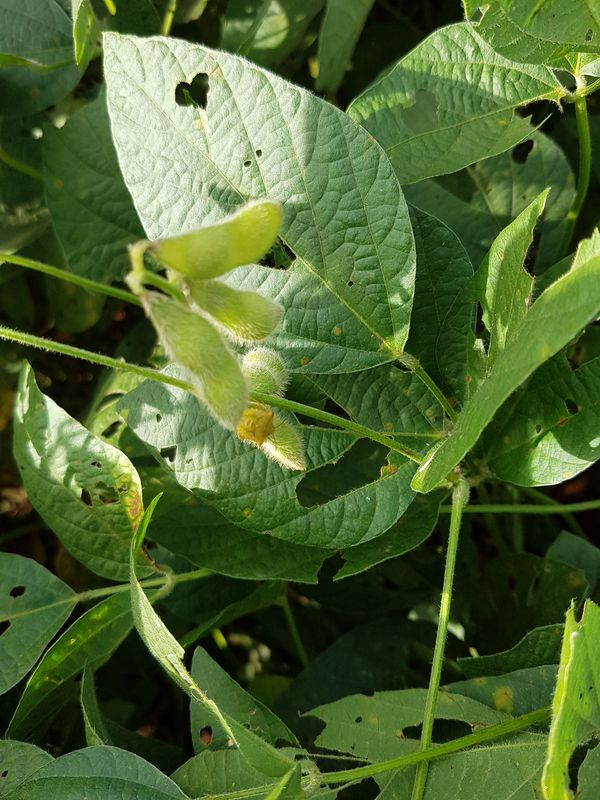Euschistus_heros_ninfa: (227, 398, 291, 461)
